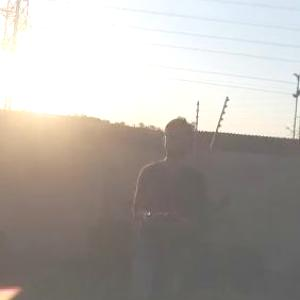follow: (122, 111, 212, 299)
